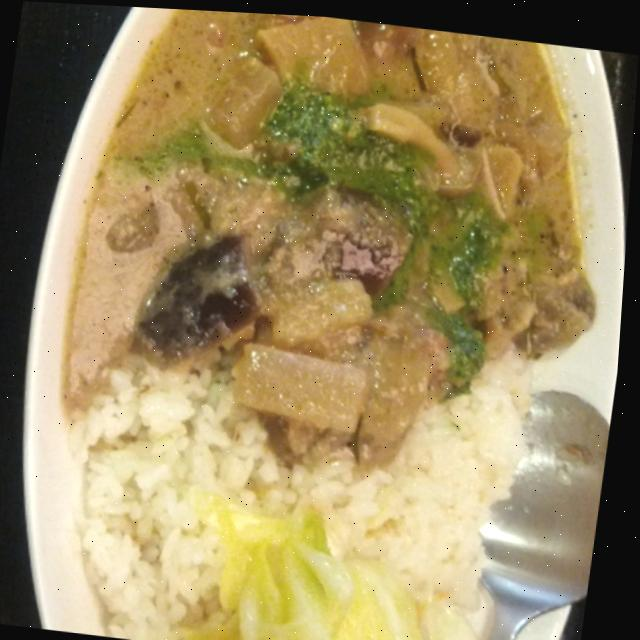熟制海鲜: (0, 3, 372, 434)
